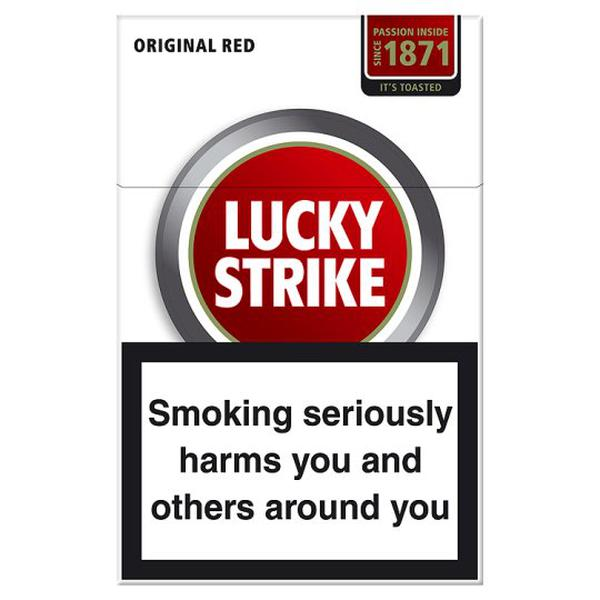lucky_strike_red: (118, 19, 478, 581)
